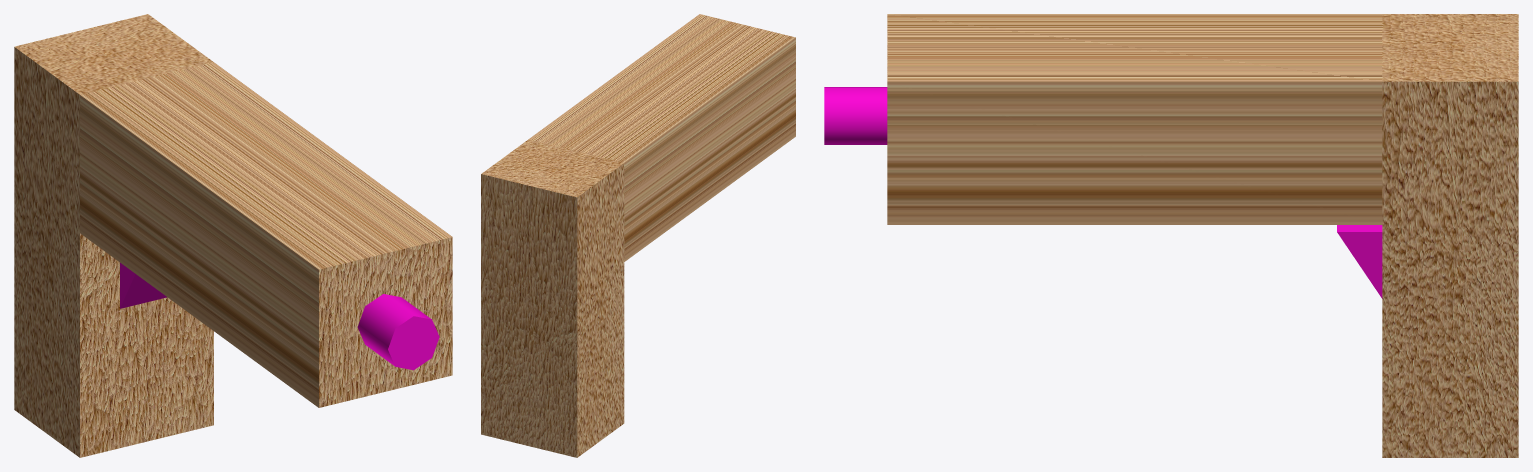
The model's file is Gun.FBX.
3 renders of one model, left to right at view 1: azimuth 30°, elevation 25°; view 2: azimuth 150°, elevation 25°; view 3: azimuth 270°, elevation 25°, orthographic. The views are drawn at different scales.
Visible parts, largest first — view 1: Gun; view 2: Gun; view 3: Gun.
Boxes of the visible parts, x1,y1,x2,y2 form: Gun: [14, 14, 452, 457]; Gun: [481, 14, 795, 457]; Gun: [824, 14, 1518, 457].
Size of the model in its own units: 9.49 by 24.59 by 41.13.
